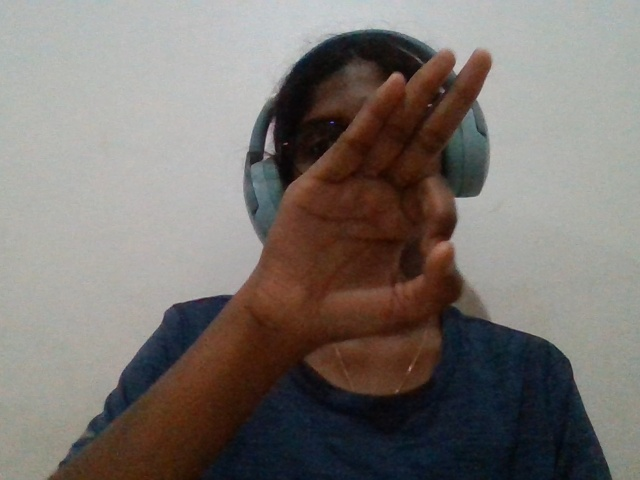F: (198, 32, 507, 480)
